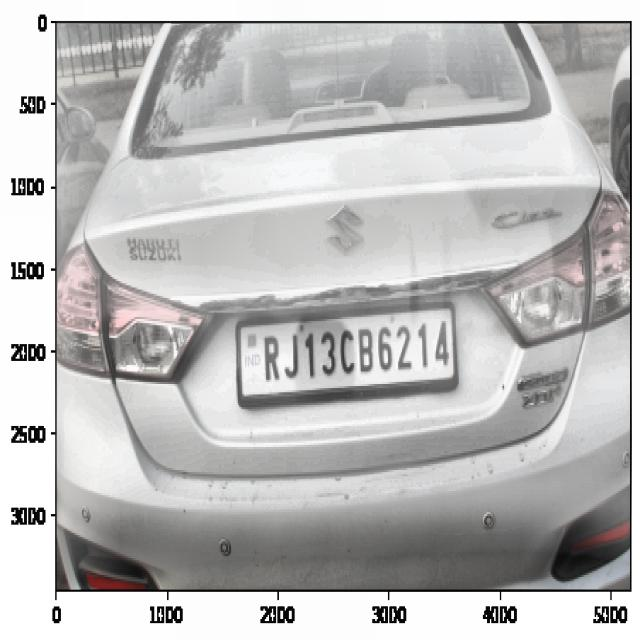license_plate: (256, 314, 458, 387)
